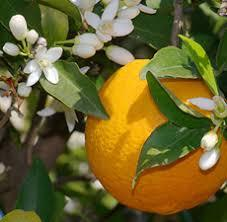orange: (94, 50, 227, 208)
